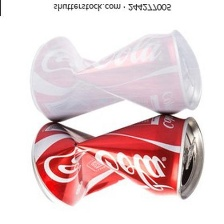can: (16, 28, 211, 125), (26, 113, 210, 210)
